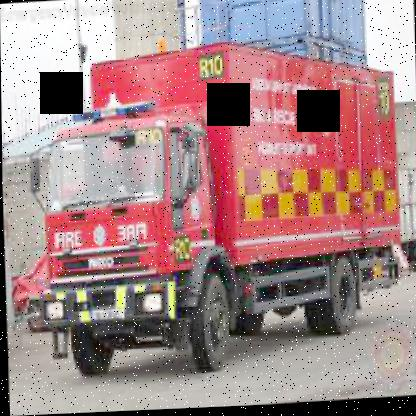emergency: (9, 36, 415, 390)
